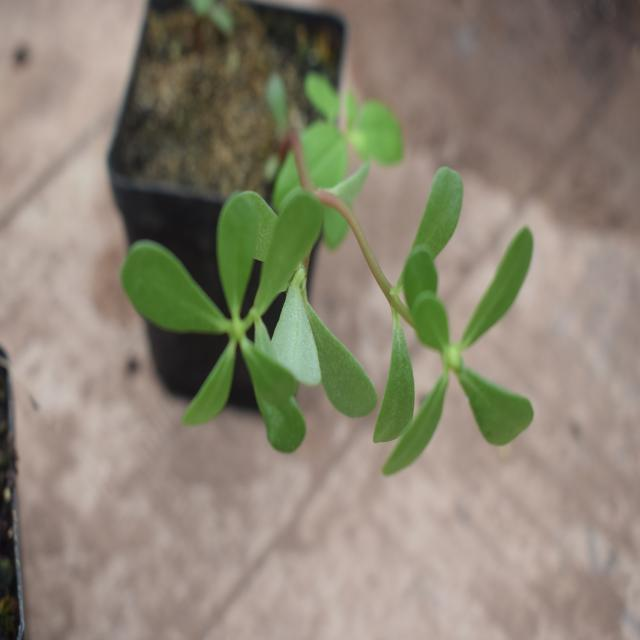purslane: (114, 145, 544, 472)
